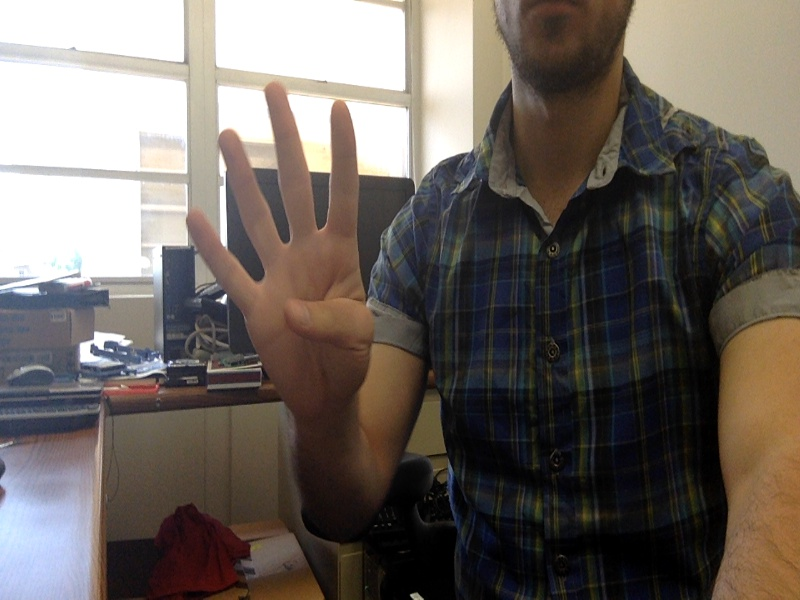4-hand: (185, 77, 373, 428)
